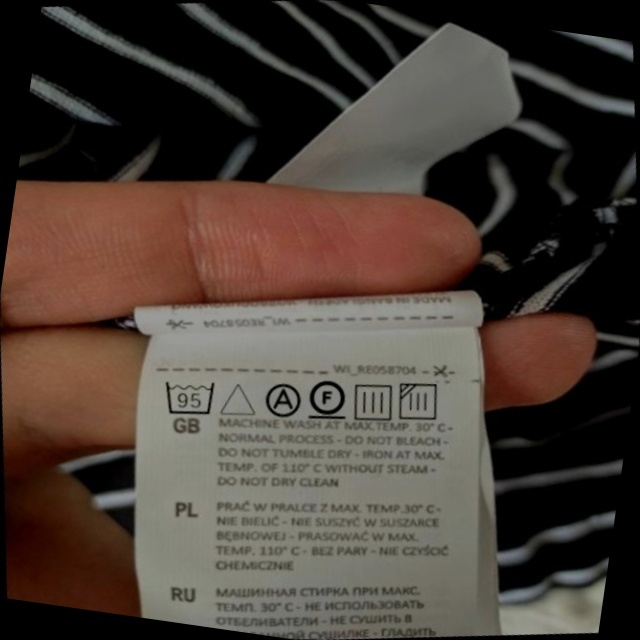95C: (157, 369, 224, 425)
bleach: (214, 372, 262, 424)
drip_dry: (345, 373, 402, 429)
drip_dry_in_shade: (392, 373, 450, 431)
dry_clean: (257, 376, 307, 424)
dry_clean_petrol_only: (302, 369, 354, 427)
